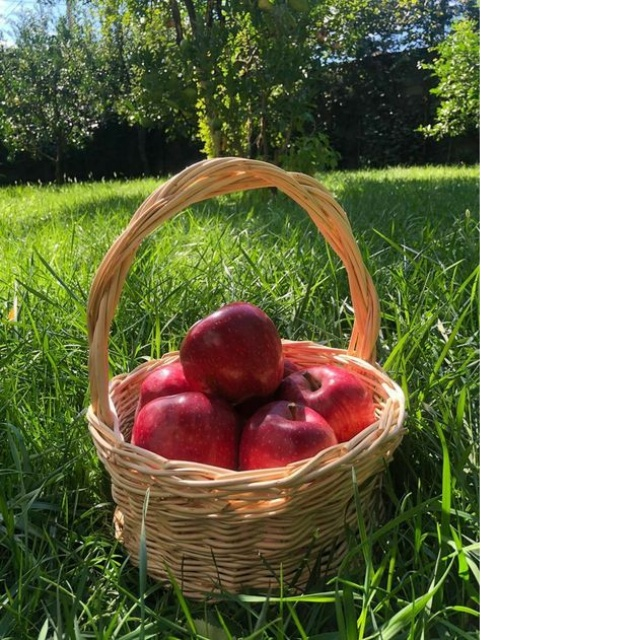sau_rieng: (162, 286, 297, 406), (242, 402, 349, 475)
